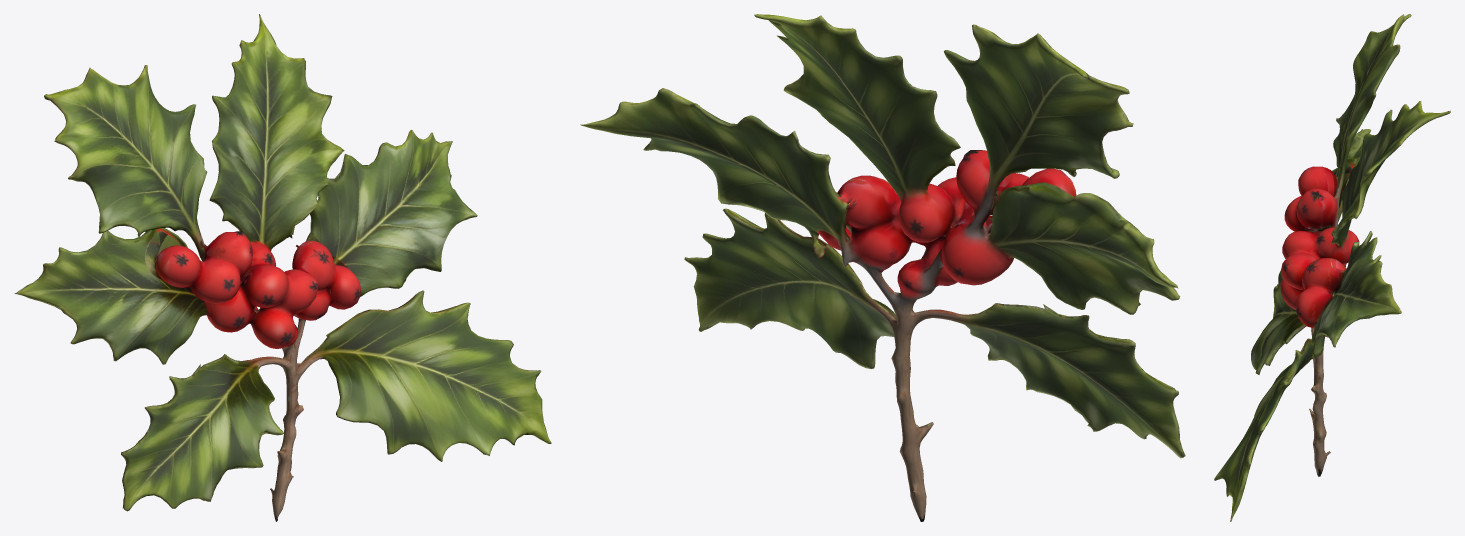
Rendered from Meshy_AI_Holly_Delight_0102103641_texture.fbx.
The picture shows the model from 3 angles, left to right: view 1: azimuth 30°, elevation 25°; view 2: azimuth 150°, elevation 25°; view 3: azimuth 270°, elevation 25°; orthographic projection. The views are drawn at different scales.
Parts seen in each view (by area): view 1: Mesh0; view 2: Mesh0; view 3: Mesh0.
Part boxes in pixels (box(x1,y1,x2,y2)): Mesh0: box(14, 14, 551, 521); Mesh0: box(580, 14, 1185, 521); Mesh0: box(1214, 14, 1450, 521).
Bounding box in the file's own units: 189 × 179 × 95.41.
Materials: 1 (1 with a texture image).
